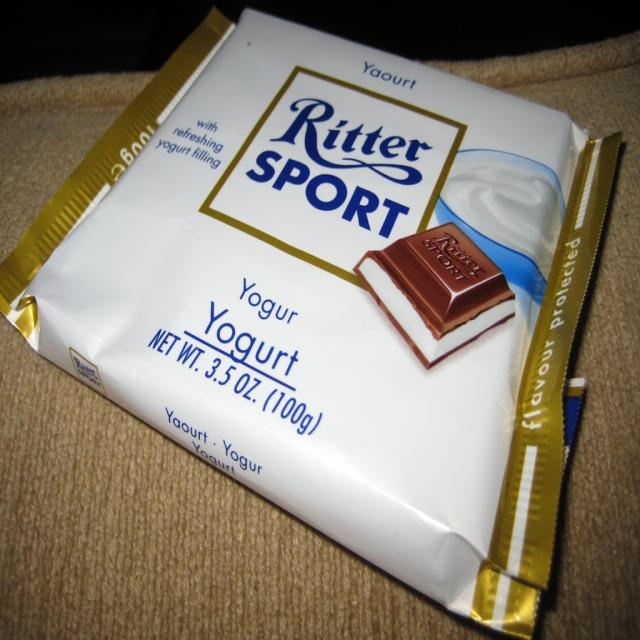rittersport: (200, 66, 467, 304)
